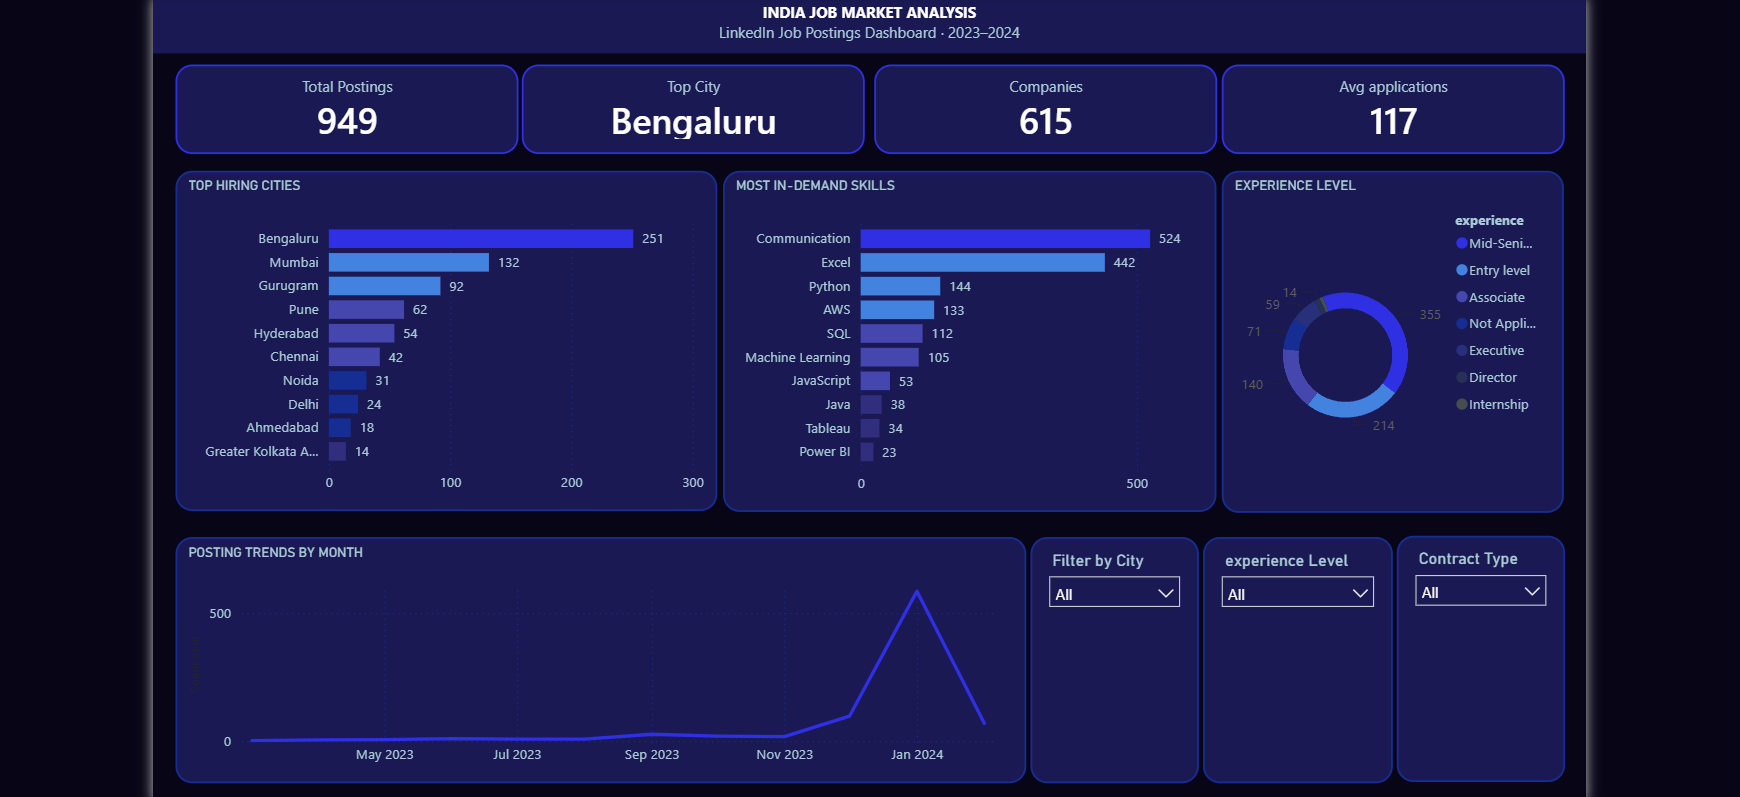

The page's visual inventory and layout, read from the dashboard file:
{"tool":"powerbi","page":{"name":"Page 1","canvas":[1280,720],"ordinal":0},"visuals":[{"type":"cardVisual","fields":{"Data":["CountNonNull(jobs_raw.row_index)"]},"box":[20,60.3,306,80],"z":0},{"type":"cardVisual","fields":{"Data":["jobs_raw.Top City"]},"box":[329.5,60,306,80],"z":1000},{"type":"cardVisual","title":"Companies","fields":{"Data":["Count(jobs_raw.companyName)"]},"box":[644,60,306,80],"z":2000},{"type":"cardVisual","fields":{"Data":["Avg(jobs_raw.applicationsCount)"]},"box":[955,60,306,80],"z":3000},{"type":"clusteredBarChart","title":"TOP HIRING CITIES","fields":{"Category":["jobs_raw.city"],"Y":["CountNonNull(jobs_raw.id)"]},"box":[19.6,155.7,484,304.3],"z":4000},{"type":"donutChart","title":"EXPERIENCE LEVEL","fields":{"Category":["jobs_raw.experienceLevel"],"Y":["CountNonNull(jobs_raw.id)"]},"box":[954.7,155.2,306,306],"z":5000},{"type":"clusteredBarChart","title":"MOST IN-DEMAND SKILLS","fields":{"Y":["Sum(skills_summary.Mentions)"],"Category":["skills_summary.Skill"]},"box":[509.2,155.2,441.1,304.8],"z":6000},{"type":"lineChart","title":"POSTING TRENDS BY MONTH","fields":{"Y":["CountNonNull(jobs_raw.id)"],"Category":["jobs_raw.publishedAt_date.Variation.Date Hierarchy.Year","jobs_raw.publishedAt_date.Variation.Date Hierarchy.Month"]},"box":[19.6,482.4,760,220],"z":7000},{"type":"slicer","fields":{"Values":["jobs_raw.city"]},"box":[784,482.4,150,220],"z":8000},{"type":"slicer","fields":{"Values":["jobs_raw.experienceLevel"]},"box":[938.1,482.4,169.7,220.2],"z":9000},{"type":"slicer","fields":{"Values":["jobs_raw.contractType"]},"box":[1110.6,481,150,220],"z":10000},{"type":"textbox","box":[0,0,1280,50],"z":11000}]}

Visuals, with their boxes on the page's 1280x720 design canvas (x1, y1, x2, y2). These are canvas units, not pixel positions in the 1740x797 screenshot, which may show the page scaled, cropped or inside an application window:
cardVisual - CountNonNull(jobs_raw.row_index): 20,60,326,140
cardVisual - jobs_raw.Top City: 330,60,636,140
"Companies" cardVisual: 644,60,950,140
cardVisual - Avg(jobs_raw.applicationsCount): 955,60,1261,140
"TOP HIRING CITIES" clusteredBarChart: 20,156,504,460
"EXPERIENCE LEVEL" donutChart: 955,155,1261,461
"MOST IN-DEMAND SKILLS" clusteredBarChart: 509,155,950,460
"POSTING TRENDS BY MONTH" lineChart: 20,482,780,702
slicer - jobs_raw.city: 784,482,934,702
slicer - jobs_raw.experienceLevel: 938,482,1108,703
slicer - jobs_raw.contractType: 1111,481,1261,701
textbox: 0,0,1280,50
